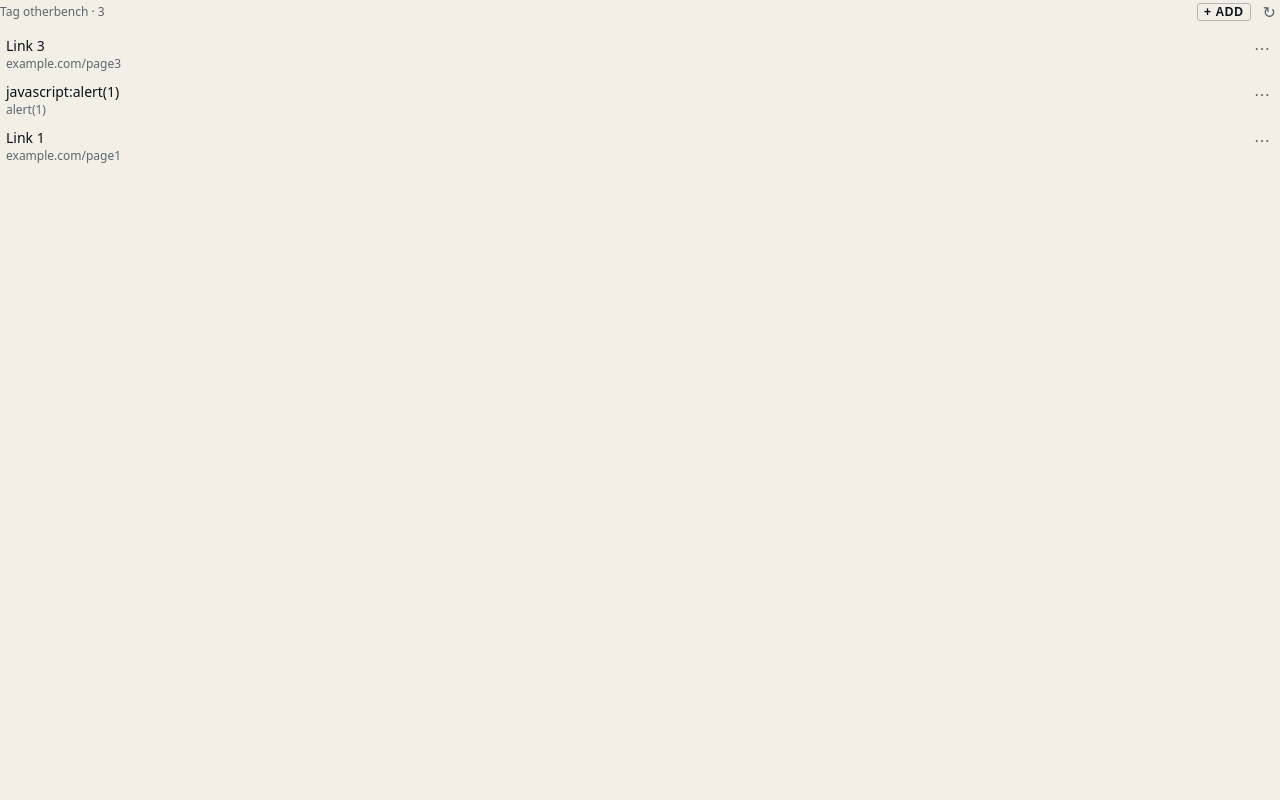
Test: LinksTab › Delete asks first
Click the button named "Actions for Link 1" at (1262, 140), box [1248, 128, 1276, 152]
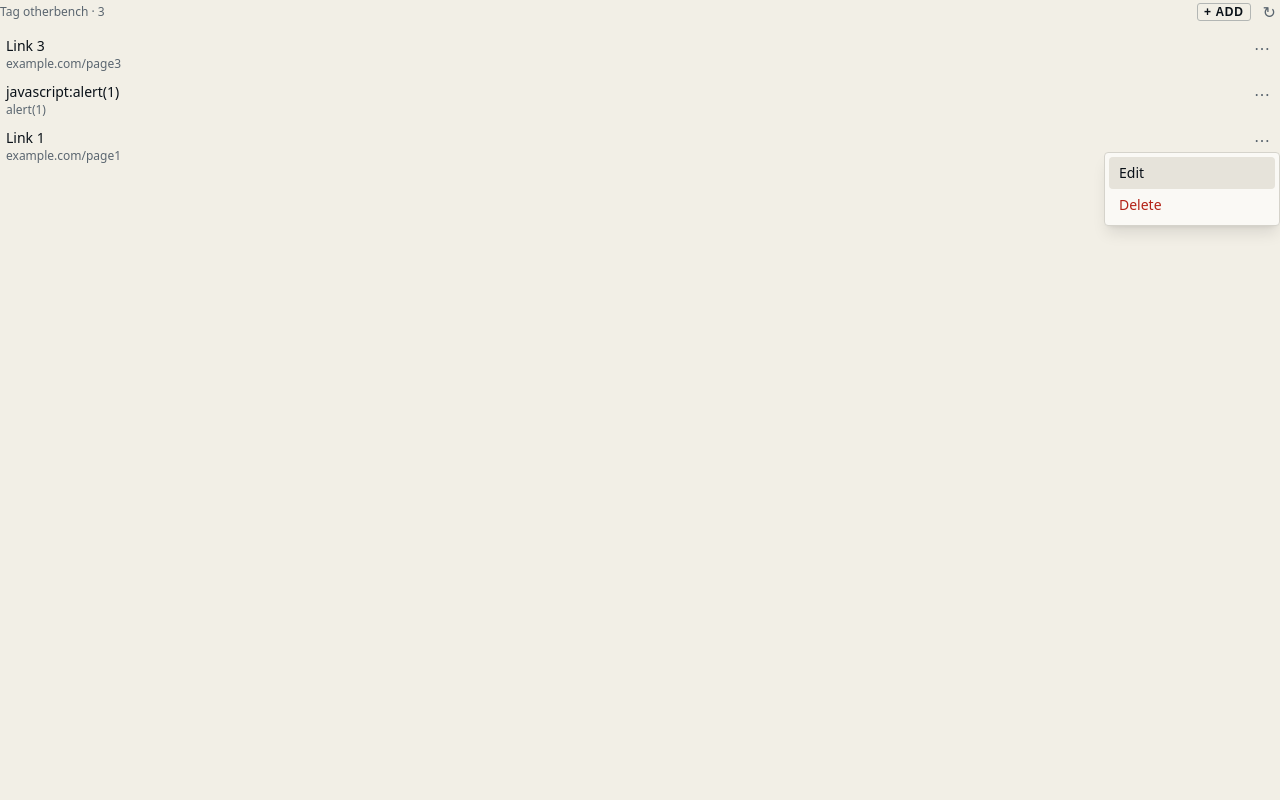
Click the menu item "Delete" at (1192, 205), box [1109, 189, 1275, 221]
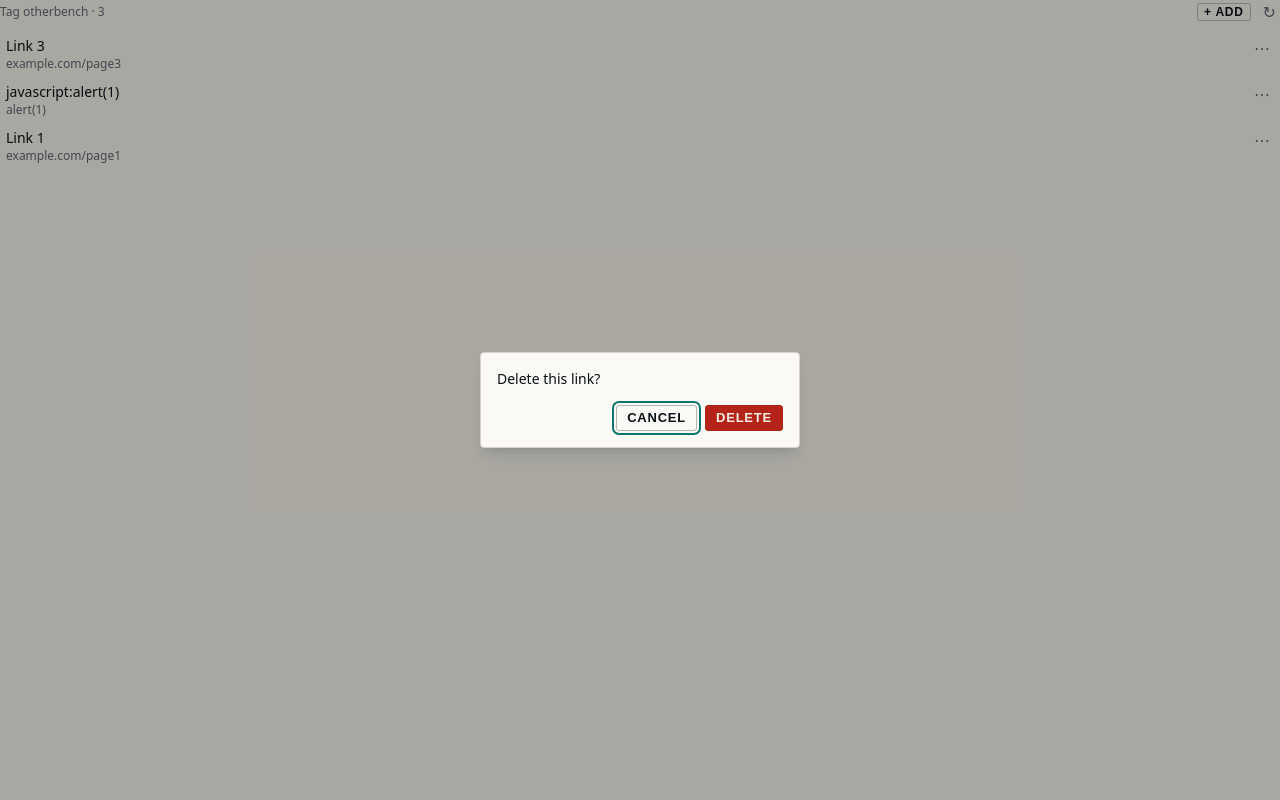
Click the button "Delete" at (744, 418), box [705, 405, 783, 431]
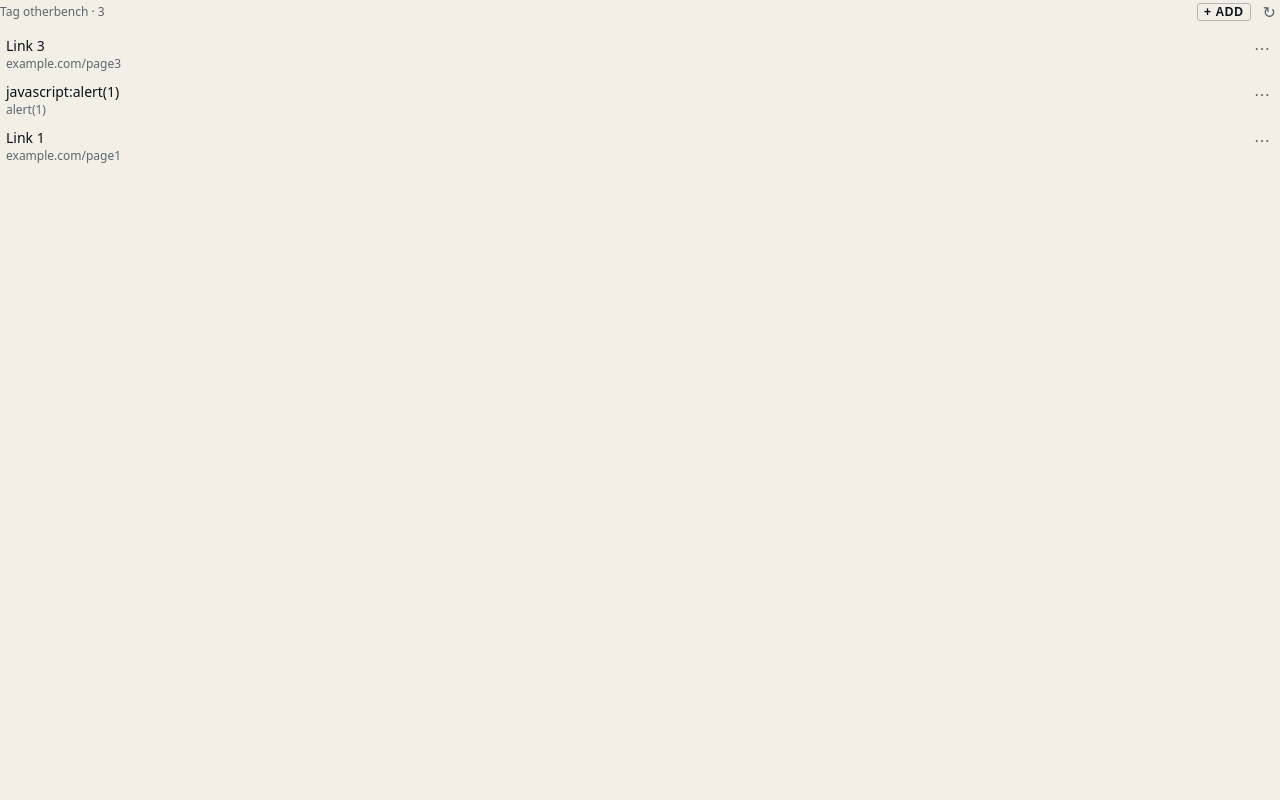
Expected: the dialog is gone
